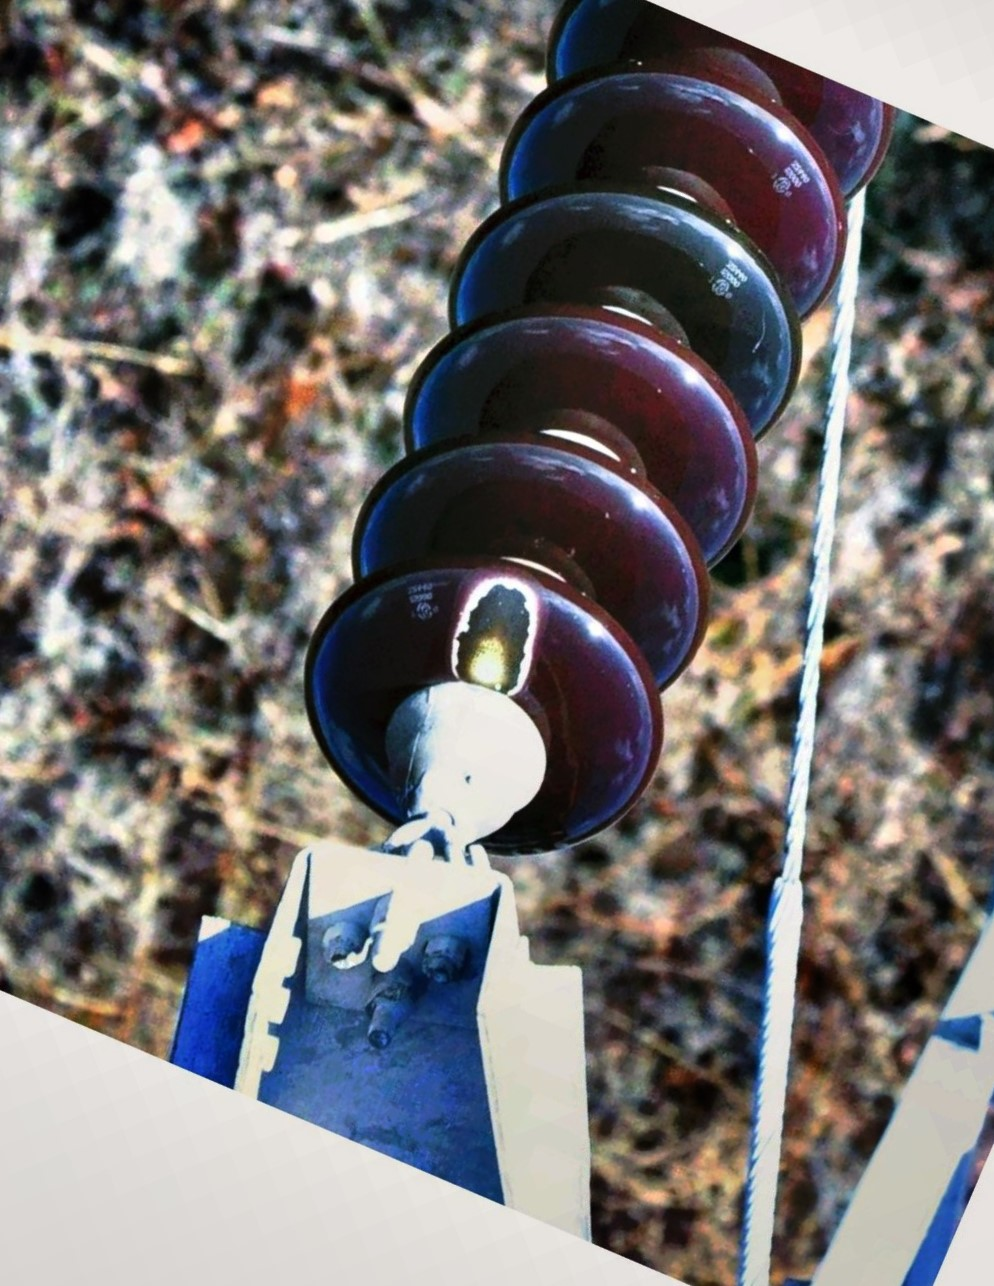Insulator flashover: (287, 545, 680, 878)
